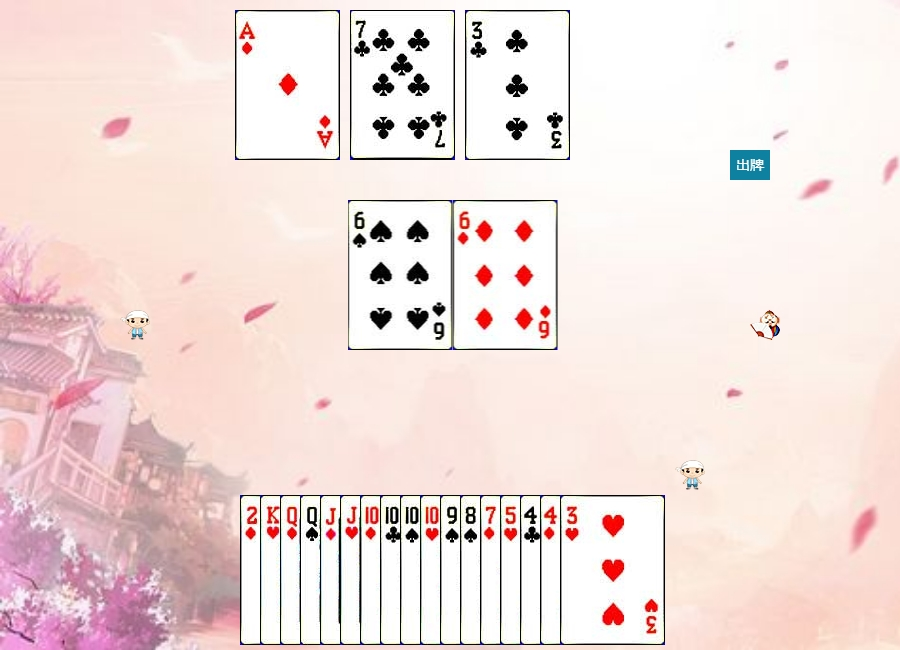10~1: (360, 495, 465, 645)
10~2: (380, 495, 485, 645)
10~3: (420, 495, 525, 645)
10~4: (400, 495, 505, 645)
11~1: (320, 495, 425, 645)
11~3: (340, 495, 445, 645)
12~1: (280, 495, 385, 645)
12~4: (300, 495, 405, 645)
13~3: (260, 495, 365, 645)
14~1: (235, 10, 340, 160)
15~1: (240, 495, 345, 645)
3~2: (465, 10, 570, 160)
3~3: (560, 495, 665, 645)
4~1: (540, 495, 645, 645)
4~2: (520, 495, 625, 645)
5~3: (500, 495, 605, 645)
6~1: (453, 200, 558, 350)
6~4: (348, 200, 453, 350)
7~1: (480, 495, 585, 645)
7~2: (350, 10, 455, 160)
8~4: (460, 495, 565, 645)
9~4: (440, 495, 545, 645)
